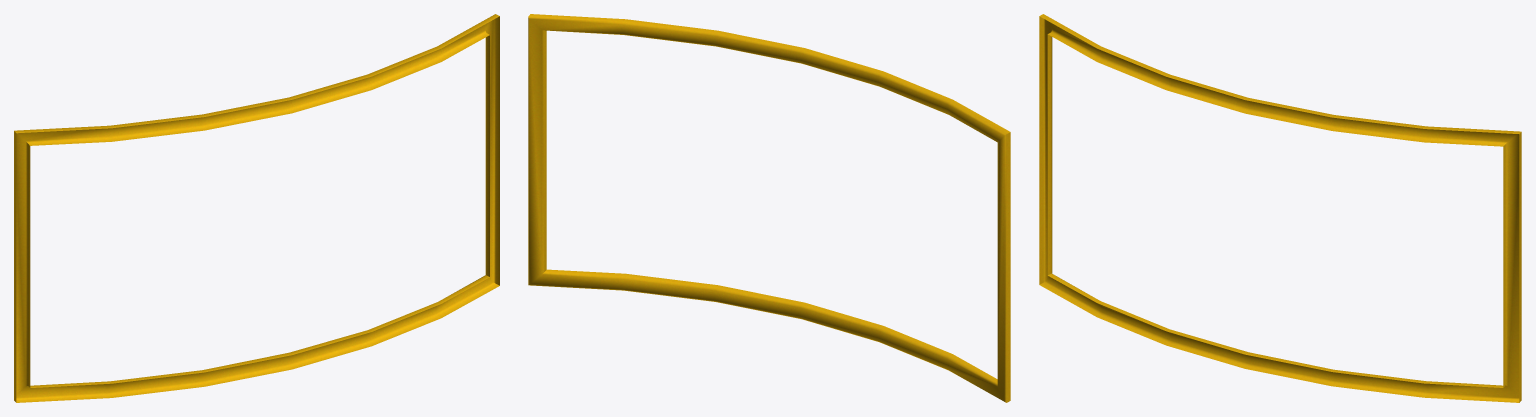
Rendered from ARC0510106.fbx.
3 views of the same model, side by side, from view 1: azimuth 30°, elevation 25°; view 2: azimuth 150°, elevation 25°; view 3: azimuth 330°, elevation 25° (orthographic).
Parts seen in each view (by area): view 1: smARC0510106; view 2: smARC0510106; view 3: smARC0510106.
Part boxes in pixels (x1=…): smARC0510106: x1=14, y1=14, x2=499, y2=402; smARC0510106: x1=528, y1=14, x2=1010, y2=402; smARC0510106: x1=1039, y1=14, x2=1521, y2=402.
Size of the model in its own units: 263 by 140 by 36.54.
Materials: 1 (1 with a texture image).
